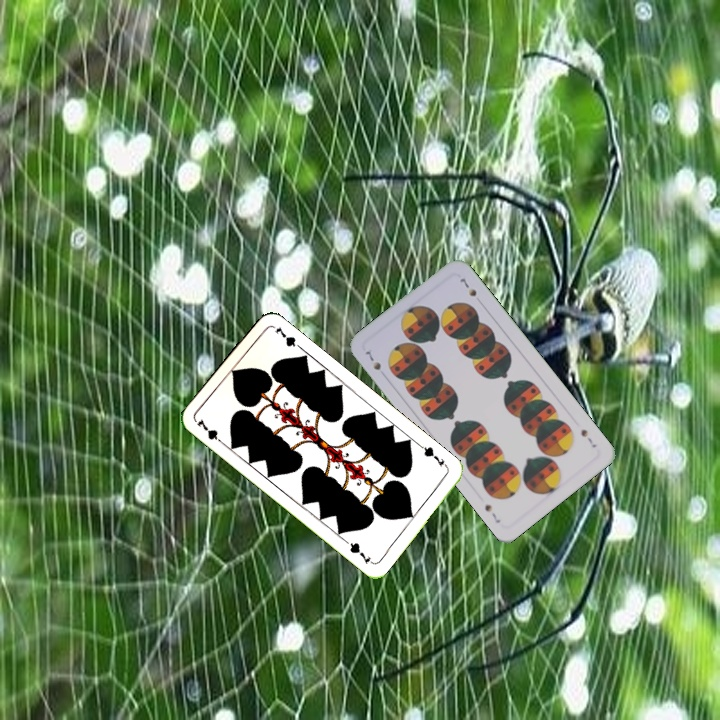G7: (193, 415, 226, 447), (416, 441, 451, 471)
S7: (361, 346, 383, 373), (577, 425, 599, 450)
